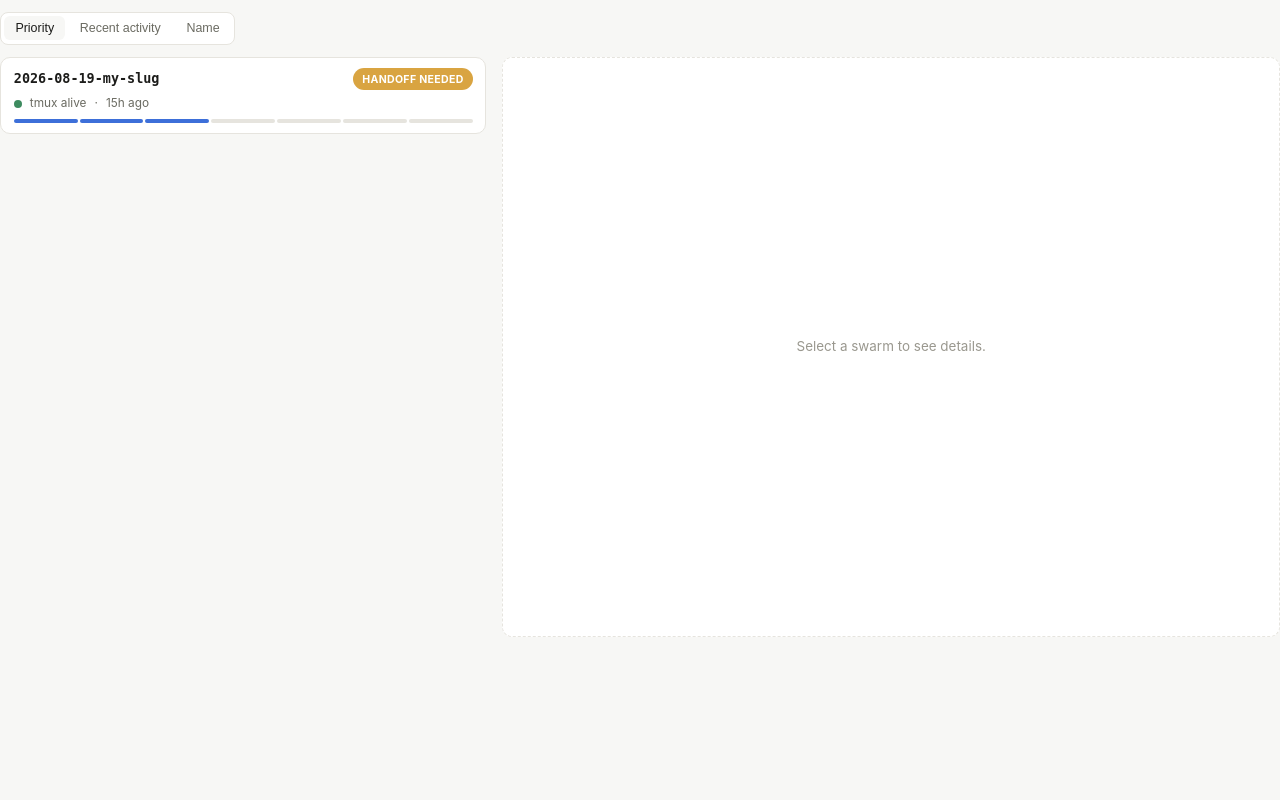
SwarmsTab › opens the detail panel on click, showing branch/worktree/timeline/history
The image size is (1280, 800).
Step 1. Click the text "2026-08-19-my-slug" → (87, 79), box [14,69,159,89]
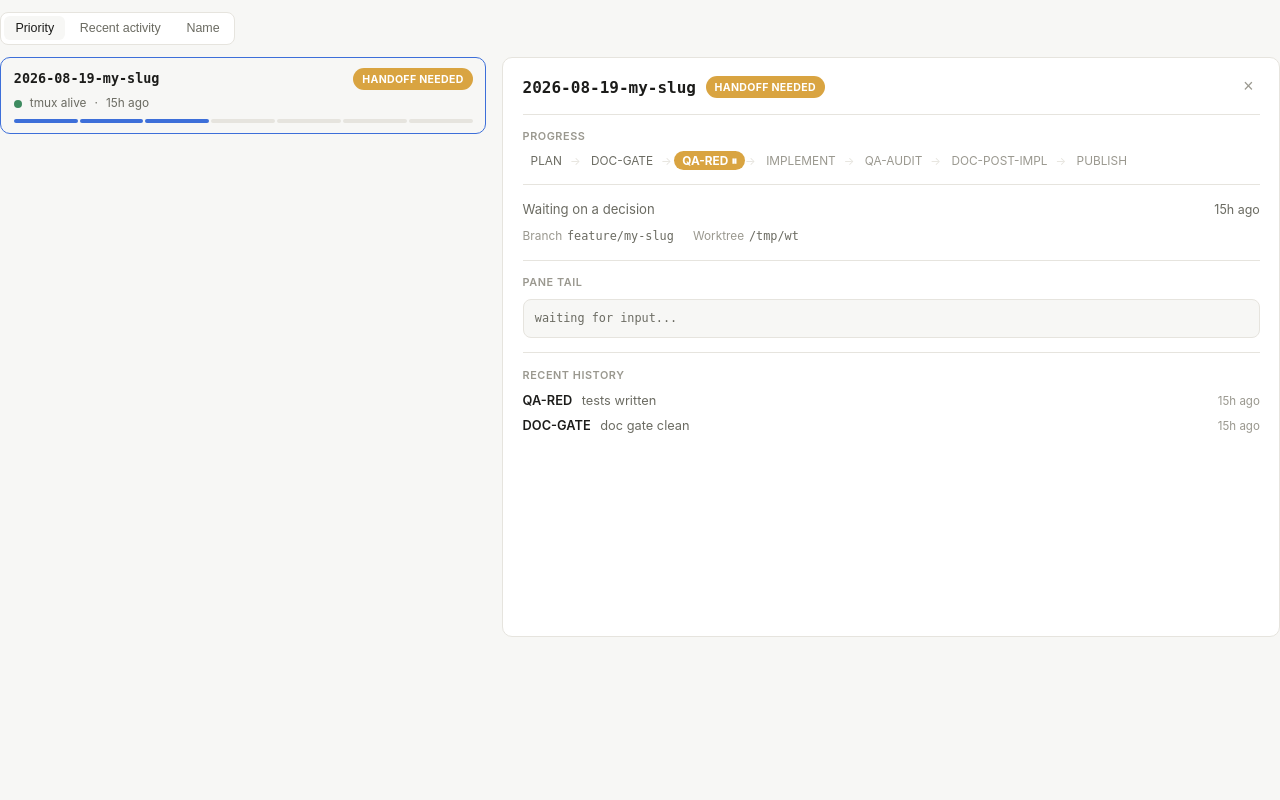
Expected: the text "feature/my-slug" is shown, [567,229,674,243]
Expected: the text "/tmp/wt" is shown, [749,229,799,243]
Expected: the text "DOC-GATE" is shown, [523,417,591,436]
